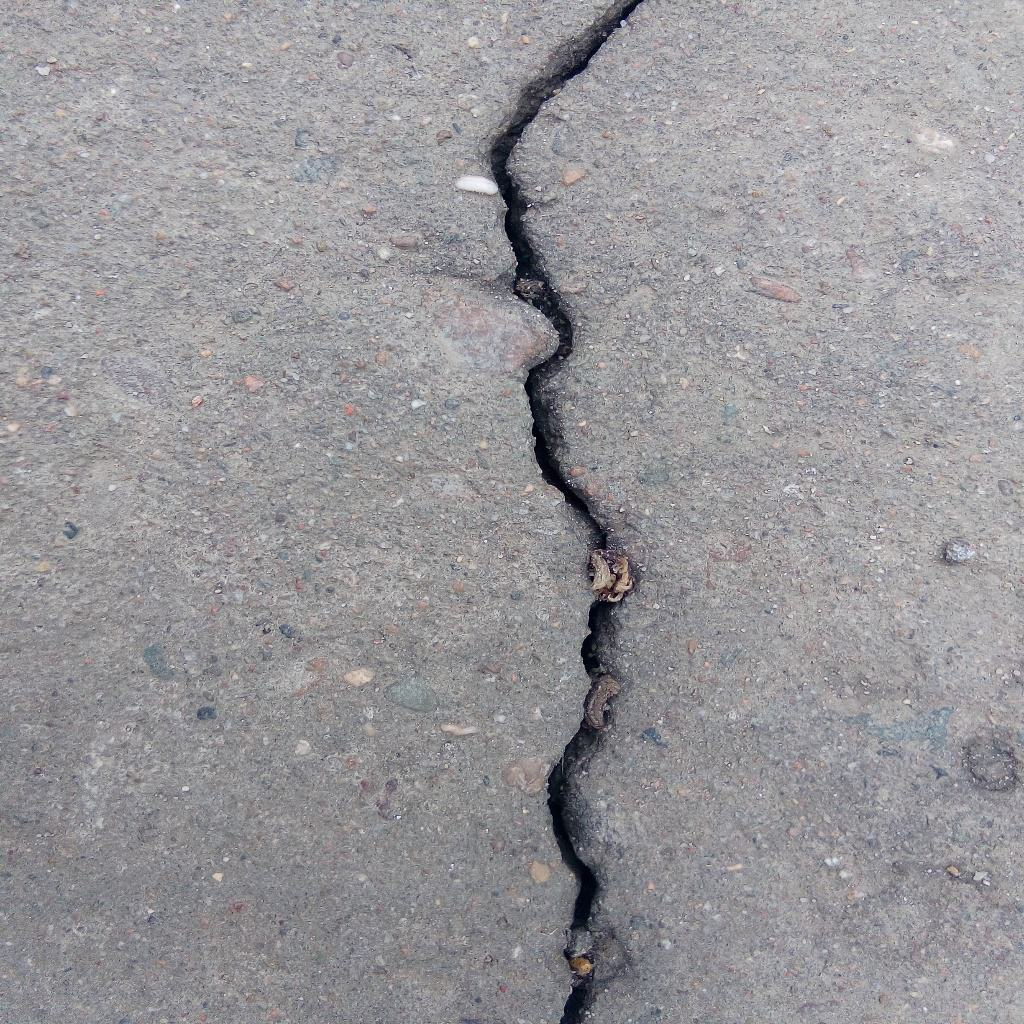Crack: (488, 1, 645, 1024)
